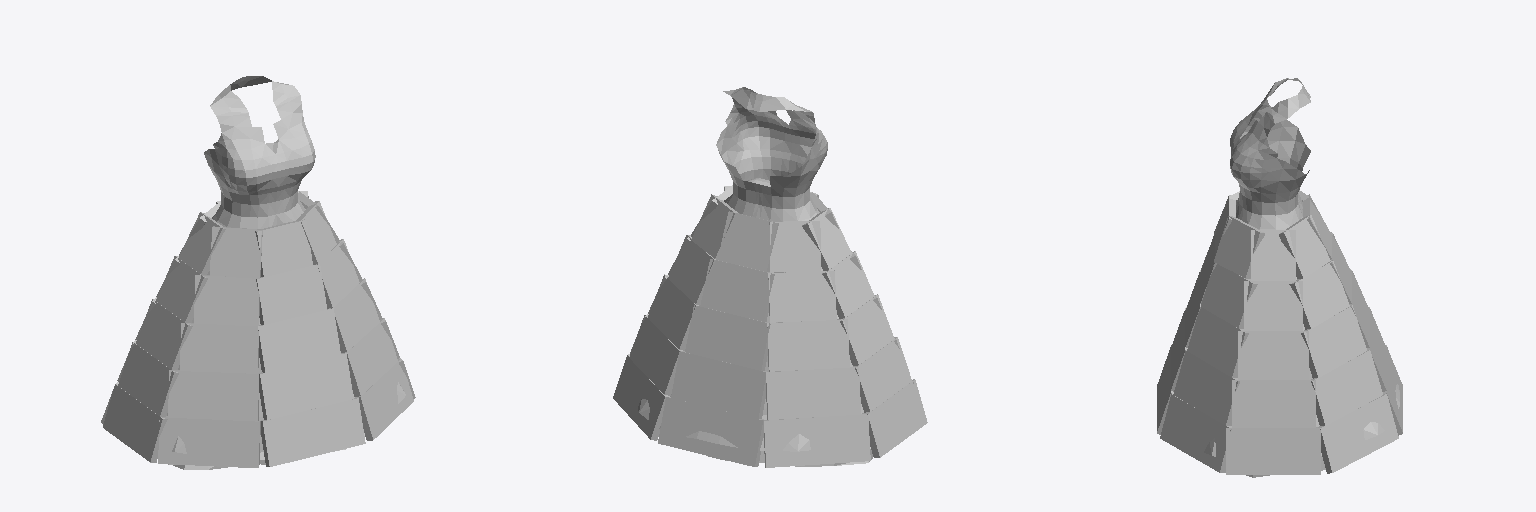
The model's file is MMD2.obj.
3 views of the same model, side by side, from view 1: azimuth 30°, elevation 25°; view 2: azimuth 150°, elevation 25°; view 3: azimuth 270°, elevation 25° (orthographic).
Parts seen in each view (by area): view 1: _mesh_Untitled, スカート_4_0_Cube.033, スカート_4_7_Cube.040, スカート_3_0_Cube.025, スカート_3_7_Cube.032, スカート_2_0_Cube.017, スカート_2_7_Cube.024, スカート_1_0_Cube.009, スカート_1_7_Cube.016, スカート_4_6_Cube.039, スカート_3_6_Cube.031, スカート_0_0_Cube.001 (+9 smaller); view 2: _mesh_Untitled, スカート_4_5_Cube.038, スカート_4_4_Cube.037, スカート_3_5_Cube.030, スカート_3_4_Cube.029, スカート_2_5_Cube.022, スカート_2_4_Cube.021, スカート_1_4_Cube.013, スカート_1_5_Cube.014, スカート_4_6_Cube.039, スカート_0_4_Cube.005, スカート_3_6_Cube.031 (+9 smaller); view 3: _mesh_Untitled, スカート_4_2_Cube.035, スカート_3_2_Cube.027, スカート_2_2_Cube.019, スカート_4_3_Cube.036, スカート_3_3_Cube.028, スカート_4_1_Cube.034, スカート_3_1_Cube.026, スカート_2_3_Cube.020, スカート_1_2_Cube.011, スカート_2_1_Cube.018, スカート_1_3_Cube.012 (+12 smaller).
Boxes of the visible parts, x1,y1,x2,y2 form: _mesh_Untitled: [167, 76, 405, 469]; スカート_4_0_Cube.033: [261, 398, 365, 466]; スカート_4_7_Cube.040: [158, 416, 260, 467]; スカート_3_0_Cube.025: [259, 353, 353, 419]; スカート_3_7_Cube.032: [168, 370, 258, 420]; スカート_2_0_Cube.017: [258, 308, 340, 372]; スカート_2_7_Cube.024: [180, 323, 258, 373]; スカート_1_0_Cube.009: [256, 264, 326, 324]; スカート_1_7_Cube.016: [194, 275, 259, 325]; スカート_4_6_Cube.039: [103, 384, 167, 462]; スカート_3_6_Cube.031: [118, 342, 178, 416]; スカート_0_0_Cube.001: [255, 219, 312, 276]; _mesh_Untitled: [638, 87, 872, 466]; スカート_4_5_Cube.038: [764, 413, 870, 467]; スカート_4_4_Cube.037: [658, 397, 763, 466]; スカート_3_5_Cube.030: [766, 367, 860, 419]; スカート_3_4_Cube.029: [671, 351, 766, 418]; スカート_2_5_Cube.022: [767, 319, 849, 371]; スカート_2_4_Cube.021: [685, 305, 770, 370]; スカート_1_4_Cube.013: [700, 259, 774, 321]; スカート_1_5_Cube.014: [768, 270, 836, 322]; スカート_4_6_Cube.039: [864, 379, 927, 457]; スカート_0_4_Cube.005: [718, 211, 778, 271]; スカート_3_6_Cube.031: [853, 337, 911, 412]; _mesh_Untitled: [1204, 78, 1399, 477]; スカート_4_2_Cube.035: [1226, 427, 1320, 474]; スカート_3_2_Cube.027: [1232, 380, 1315, 427]; スカート_2_2_Cube.019: [1238, 331, 1308, 379]; スカート_4_3_Cube.036: [1318, 394, 1398, 473]; スカート_3_3_Cube.028: [1311, 350, 1382, 425]; スカート_4_1_Cube.034: [1160, 394, 1231, 472]; スカート_3_1_Cube.026: [1173, 350, 1239, 425]; スカート_2_3_Cube.020: [1301, 305, 1366, 378]; スカート_1_2_Cube.011: [1244, 281, 1302, 330]; スカート_2_1_Cube.018: [1187, 307, 1248, 377]; スカート_1_3_Cube.012: [1289, 260, 1349, 329].
Bounding box in the file's own units: 1.64 × 2.02 × 1.32.